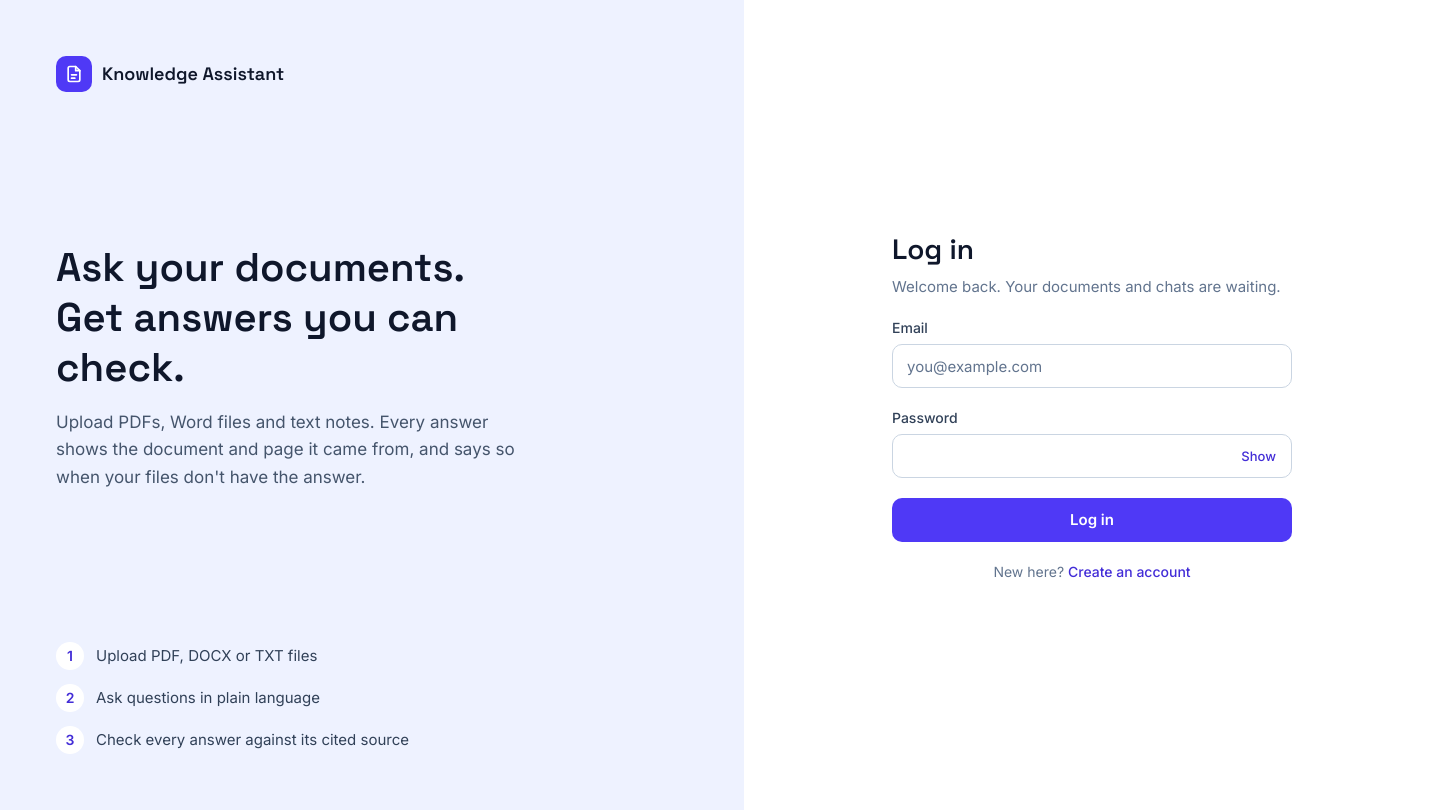
it: LoginPage › shows the API's error message when login fails
Type "alice@example.com" into the field labelled "Email" at (1092,366), box x1=892 y1=344 x2=1292 y2=388
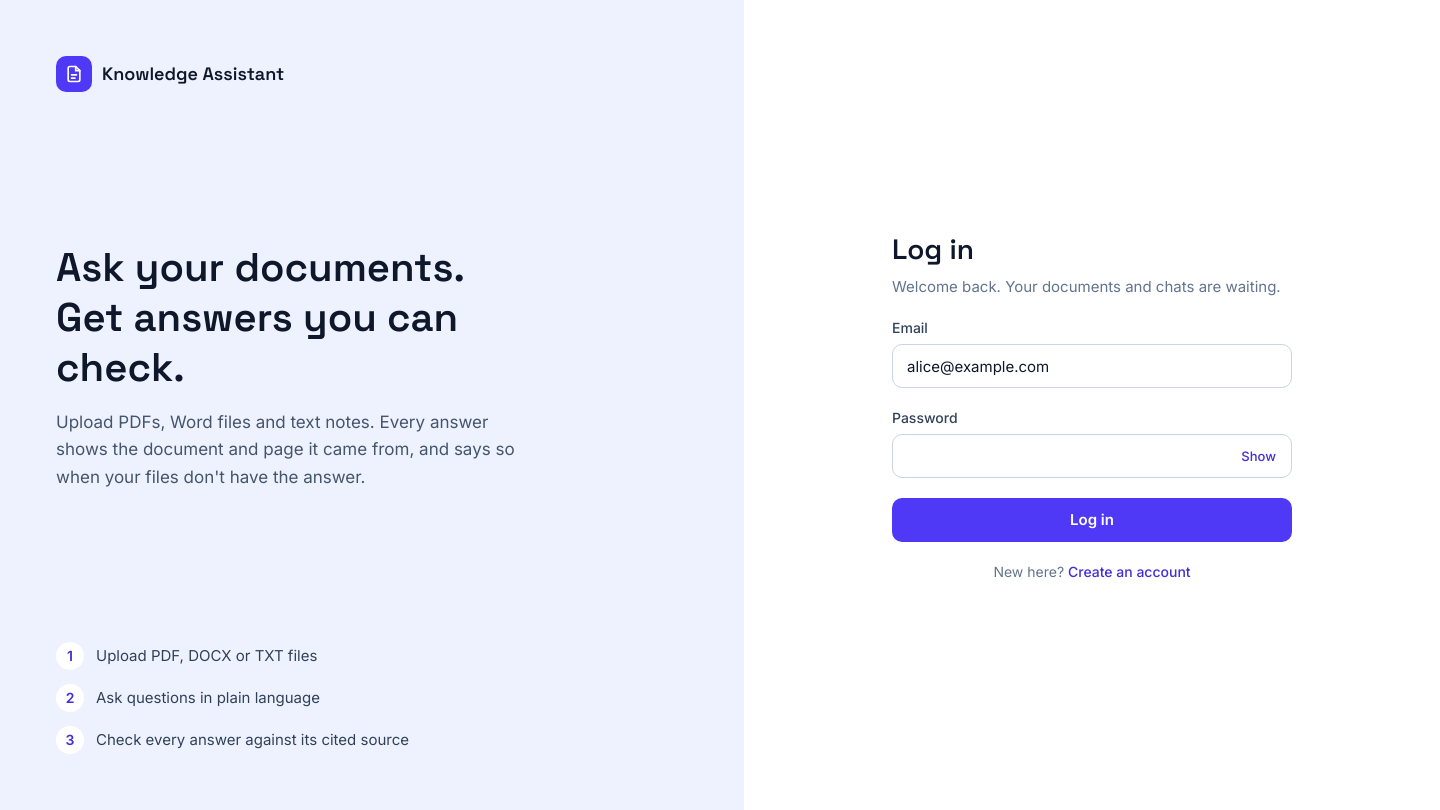
Type "wrong-pass1" into the password field labelled "Password" at (1092,456), box x1=892 y1=434 x2=1292 y2=478
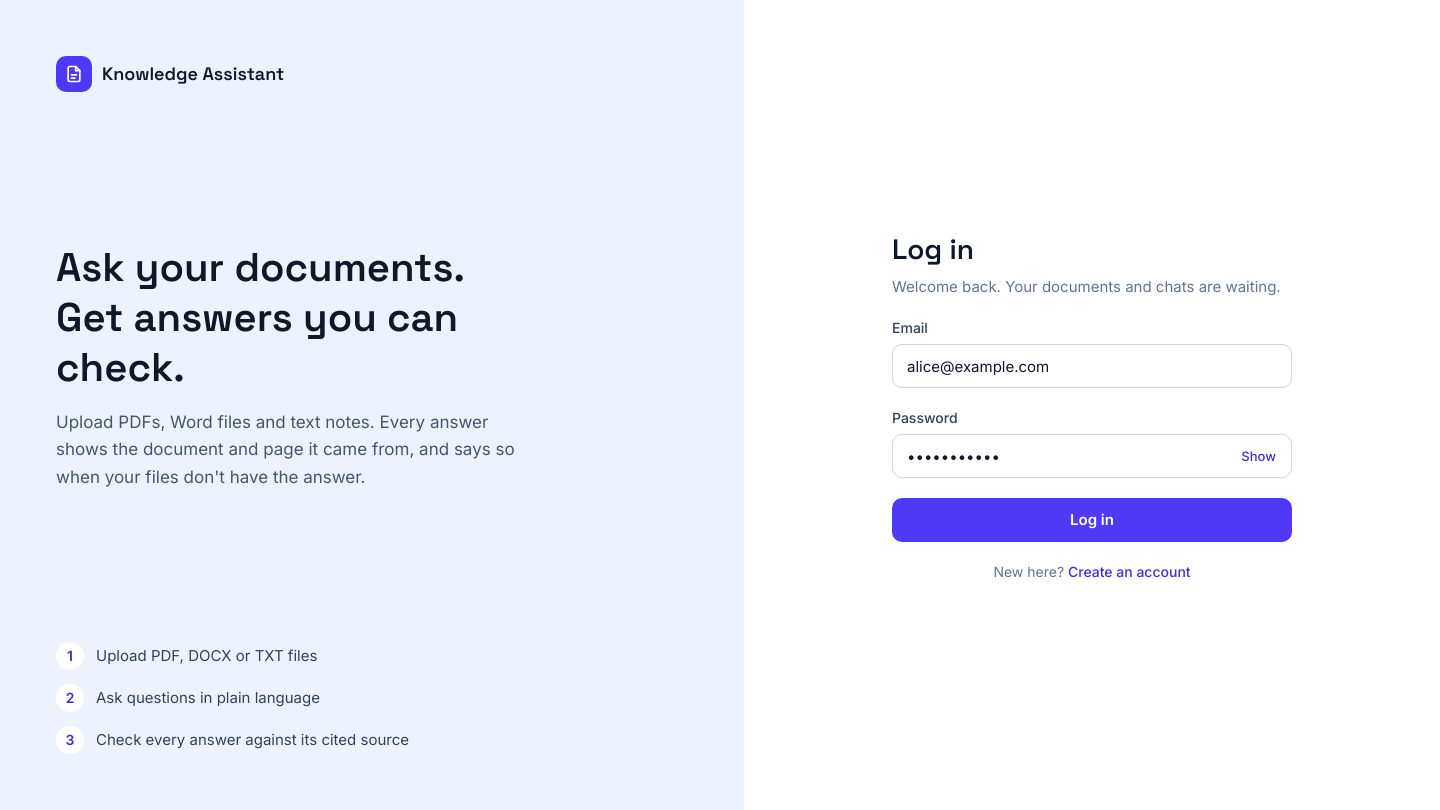
Click the button "Log in" at (1092,520), box x1=892 y1=498 x2=1292 y2=542
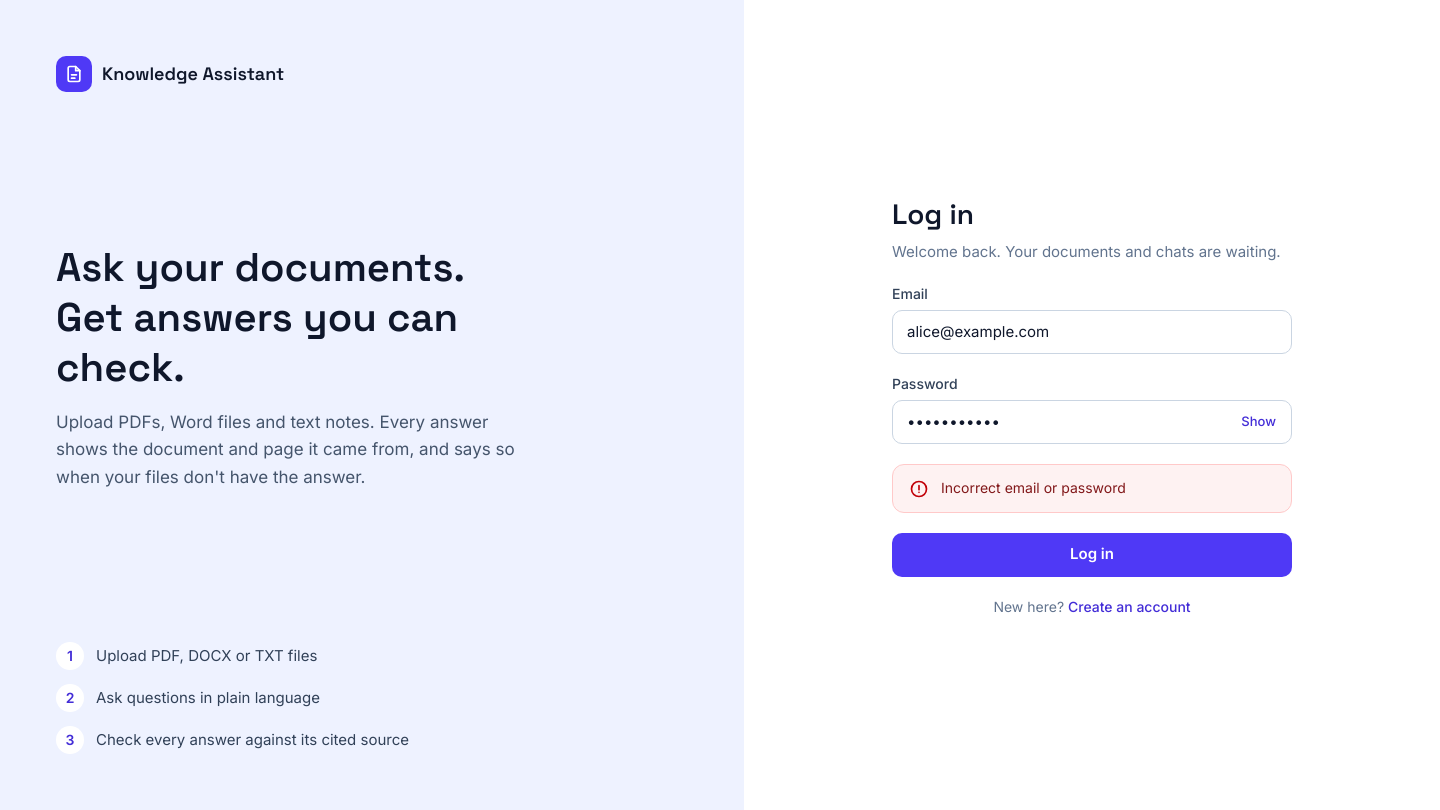
Check: the message reads "Incorrect email or password", box x1=941 y1=479 x2=1126 y2=496
